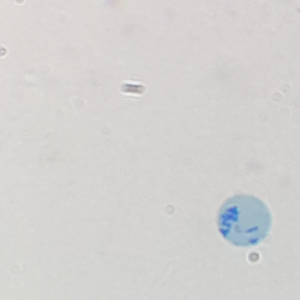aggregate reticulocyte: (215, 193, 273, 249)
